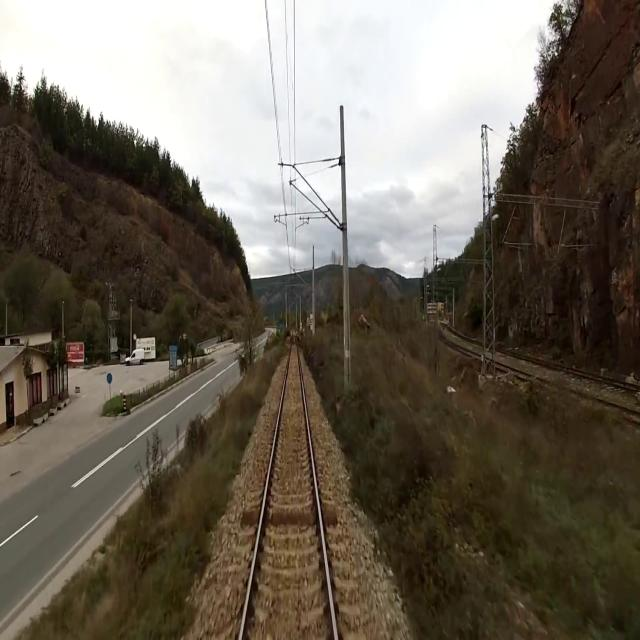rail-track: (243, 344, 333, 639), (557, 388, 640, 420)
